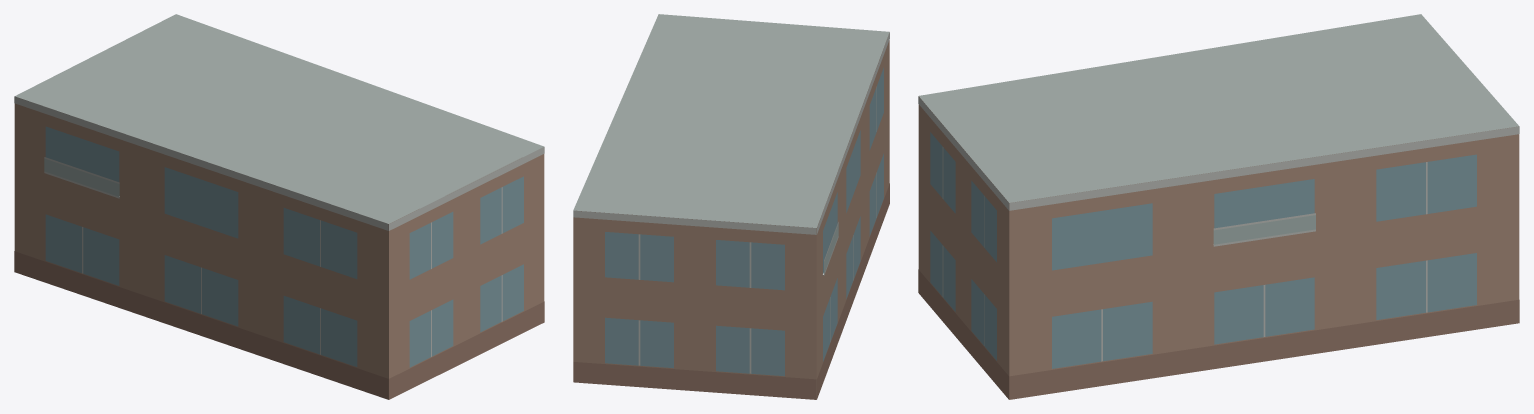
Rendered from survey-upis-32960038.glb.
3 renders of one model, left to right at view 1: azimuth 30°, elevation 25°; view 2: azimuth 150°, elevation 25°; view 3: azimuth 270°, elevation 25°, orthographic. The views are drawn at different scales.
Parts seen in each view (by area): view 1: survey-upis-32960038.tmp; view 2: survey-upis-32960038.tmp; view 3: survey-upis-32960038.tmp.
Boxes of the visible parts, x1,y1,x2,y2 form: survey-upis-32960038.tmp: [14, 14, 544, 399]; survey-upis-32960038.tmp: [573, 14, 889, 399]; survey-upis-32960038.tmp: [918, 14, 1519, 399].
Bounding box in the file's own units: 12.57 × 6.1 × 16.89.
